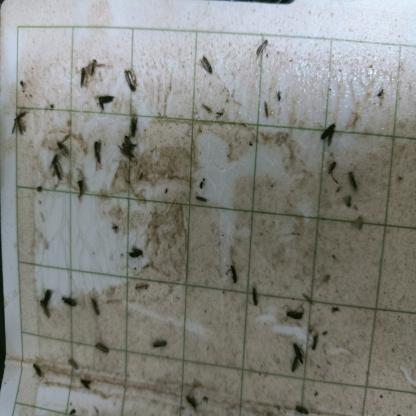prays_oleae: (89, 85, 114, 115), (92, 333, 116, 362), (35, 289, 56, 321), (75, 367, 95, 400), (120, 68, 145, 94), (9, 109, 31, 136), (197, 50, 218, 77), (222, 253, 238, 288), (320, 116, 338, 147), (49, 154, 63, 193), (86, 49, 104, 78), (52, 132, 72, 158), (28, 358, 47, 384), (75, 60, 88, 98), (149, 338, 175, 355), (123, 117, 145, 137), (118, 141, 134, 166), (61, 291, 80, 312), (128, 242, 146, 264), (246, 285, 262, 309), (254, 38, 271, 60), (328, 152, 339, 186), (346, 166, 360, 192), (287, 304, 307, 322), (186, 388, 201, 412), (90, 140, 104, 165), (74, 176, 86, 204), (88, 296, 102, 318), (294, 341, 306, 365), (298, 397, 310, 414), (288, 356, 298, 376)
